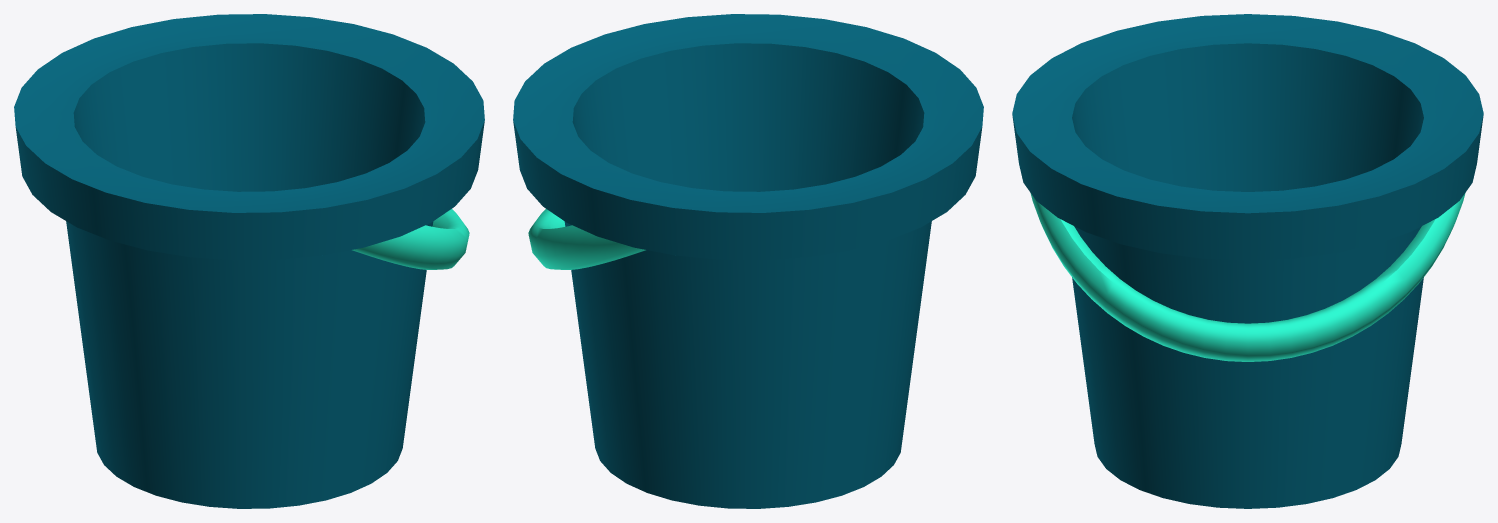
File: SM_Eimer_01003.fbx
The picture shows the model from 3 angles, left to right: view 1: azimuth 30°, elevation 25°; view 2: azimuth 150°, elevation 25°; view 3: azimuth 270°, elevation 25°; orthographic projection.
Parts seen in each view (by area): view 1: Eimer_01.004; view 2: Eimer_01.004; view 3: Eimer_01.004.
Part boxes in pixels (bbox=[...]): Eimer_01.004: bbox=[14, 14, 484, 508]; Eimer_01.004: bbox=[513, 14, 983, 508]; Eimer_01.004: bbox=[1012, 14, 1483, 508].
Bounding box in the file's own units: 101 × 78.13 × 101.
